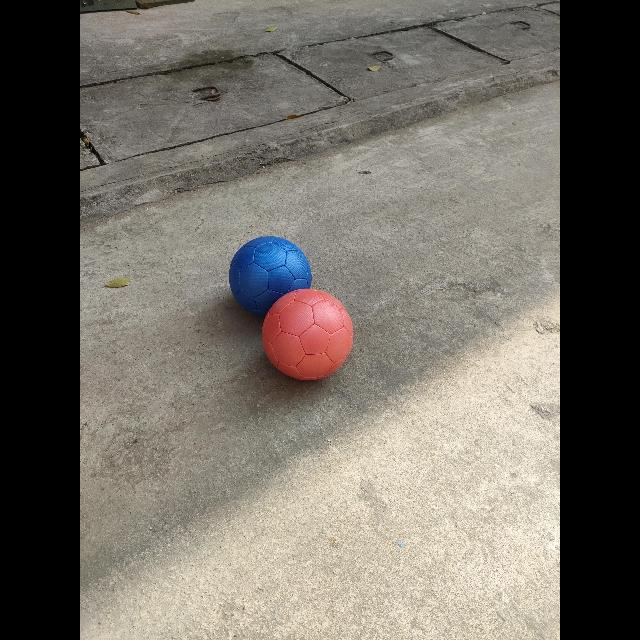B: (229, 236, 311, 316)
R: (262, 289, 354, 380)
